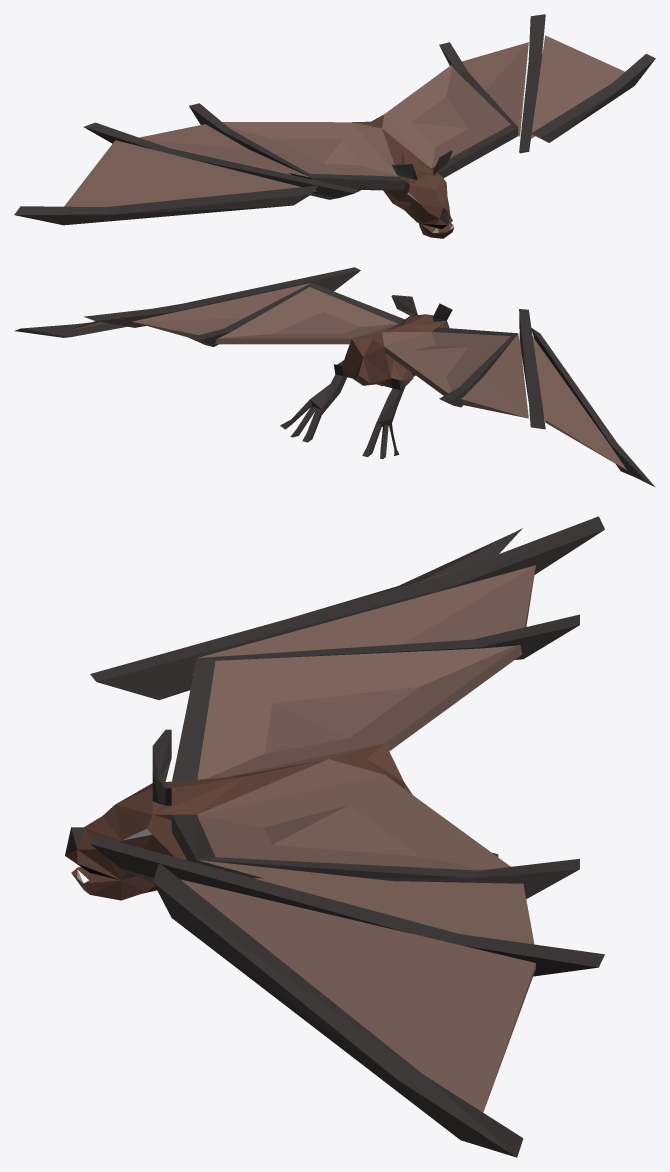
The model's file is model_2941_npc.obj.
3 views of the same model, one above another, from view 1: azimuth 30°, elevation 25°; view 2: azimuth 150°, elevation 25°; view 3: azimuth 270°, elevation 25° (orthographic). The views are drawn at different scales.
Visible parts, largest first — view 1: 2941; view 2: 2941; view 3: 2941.
Part boxes in pixels (x1,y1,x2,y2): 2941: [14, 14, 655, 238]; 2941: [15, 267, 655, 487]; 2941: [65, 516, 604, 1157].
Bounding box in the file's own units: 236 × 32 × 86.
